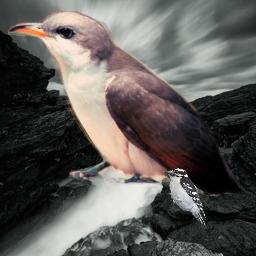Cuckoo: (8, 11, 247, 196)
Woodpecker: (163, 168, 206, 227)
